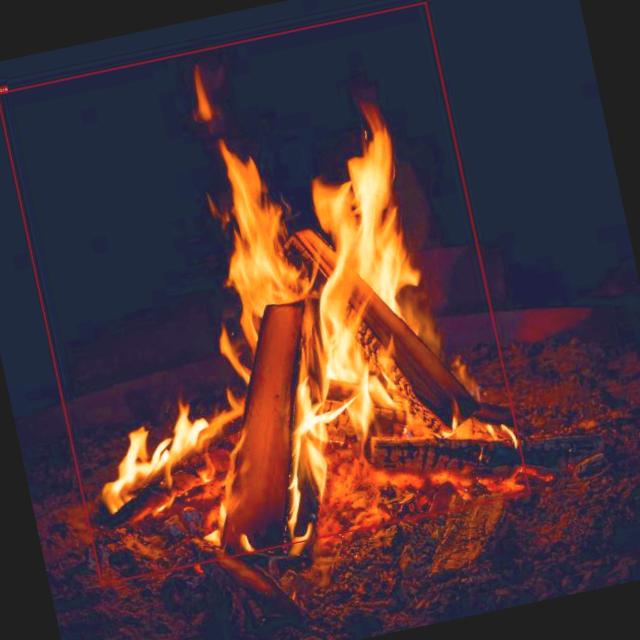fire: (0, 1, 530, 584)
